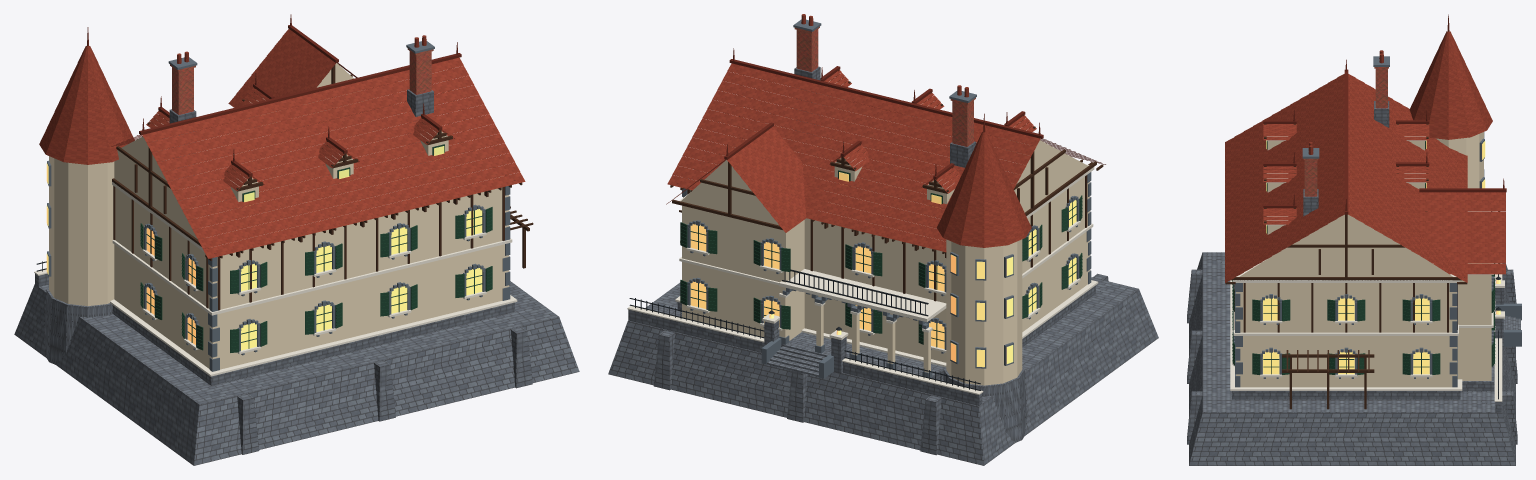
The model's file is fv_pdtv_09_phu_dong_thien_vuong_02_normandy_manor.glb.
The picture shows the model from 3 angles, left to right: view 1: azimuth 30°, elevation 25°; view 2: azimuth 150°, elevation 25°; view 3: azimuth 270°, elevation 25°; orthographic projection. The views are drawn at different scales.
Visible parts, largest first — view 1: Normandy_Brittany_Layered_Roof, Foundation_Skirt_Neg3p5m, Villa_Stucco_Walls, Molded_Cornices_And_Sills, PineGreen_Louvered_Shutters, Stone_Quoins_And_Arches, Exposed_Timber_Trusses_And_Rafters, Warm_Night_Windows_20h00_Blend, Roof_Ridges_Caps_And_Finials, Brick_Chimney_Stacks; view 2: Foundation_Skirt_Neg3p5m, Normandy_Brittany_Layered_Roof, Villa_Stucco_Walls, Molded_Cornices_And_Sills, Stone_Quoins_And_Arches, Warm_Night_Windows_20h00_Blend, PineGreen_Louvered_Shutters, Exposed_Timber_Trusses_And_Rafters, Roof_Ridges_Caps_And_Finials, Wrought_Iron_Balustrades_And_Gate, Brick_Chimney_Stacks; view 3: Normandy_Brittany_Layered_Roof, Foundation_Skirt_Neg3p5m, Villa_Stucco_Walls, Molded_Cornices_And_Sills, Exposed_Timber_Trusses_And_Rafters, Stone_Quoins_And_Arches, PineGreen_Louvered_Shutters, Warm_Night_Windows_20h00_Blend, Roof_Ridges_Caps_And_Finials, Brick_Chimney_Stacks.
Boxes of the visible parts, x1,y1,x2,y2 form: Normandy_Brittany_Layered_Roof: [39, 29, 525, 258]; Foundation_Skirt_Neg3p5m: [14, 89, 579, 465]; Villa_Stucco_Walls: [49, 63, 509, 369]; Molded_Cornices_And_Sills: [34, 95, 517, 376]; PineGreen_Louvered_Shutters: [140, 144, 492, 352]; Stone_Quoins_And_Arches: [47, 41, 510, 371]; Exposed_Timber_Trusses_And_Rafters: [112, 65, 533, 310]; Warm_Night_Windows_20h00_Blend: [46, 146, 482, 350]; Roof_Ridges_Caps_And_Finials: [87, 14, 461, 184]; Brick_Chimney_Stacks: [170, 48, 433, 114]; Foundation_Skirt_Neg3p5m: [608, 66, 1158, 465]; Normandy_Brittany_Layered_Roof: [667, 14, 1040, 252]; Villa_Stucco_Walls: [681, 96, 1090, 385]; Molded_Cornices_And_Sills: [627, 80, 1098, 394]; Stone_Quoins_And_Arches: [682, 19, 1091, 378]; Warm_Night_Windows_20h00_Blend: [690, 172, 1076, 367]; PineGreen_Louvered_Shutters: [680, 170, 1082, 347]; Exposed_Timber_Trusses_And_Rafters: [670, 70, 1103, 301]; Roof_Ridges_Caps_And_Finials: [666, 48, 1105, 204]; Wrought_Iron_Balustrades_And_Gate: [629, 269, 980, 390]; Brick_Chimney_Stacks: [794, 26, 975, 146]; Normandy_Brittany_Layered_Roof: [1225, 31, 1505, 282]; Foundation_Skirt_Neg3p5m: [1187, 101, 1520, 465]; Villa_Stucco_Walls: [1236, 132, 1491, 387]; Molded_Cornices_And_Sills: [1230, 136, 1504, 401]; Exposed_Timber_Trusses_And_Rafters: [1225, 124, 1499, 409]; Stone_Quoins_And_Arches: [1233, 56, 1521, 387]; PineGreen_Louvered_Shutters: [1232, 141, 1495, 375]; Warm_Night_Windows_20h00_Blend: [1263, 140, 1500, 374]; Roof_Ridges_Caps_And_Finials: [1263, 14, 1506, 214]; Brick_Chimney_Stacks: [1303, 67, 1388, 196].
Size of the model in its own units: 27.72 by 21.63 by 22.12.
12 materials, 3 textured.
